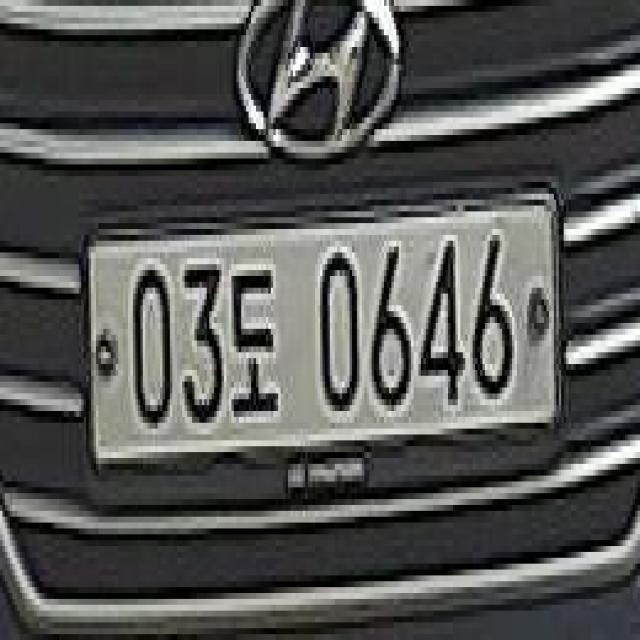illegal_plate: (81, 186, 564, 501)
